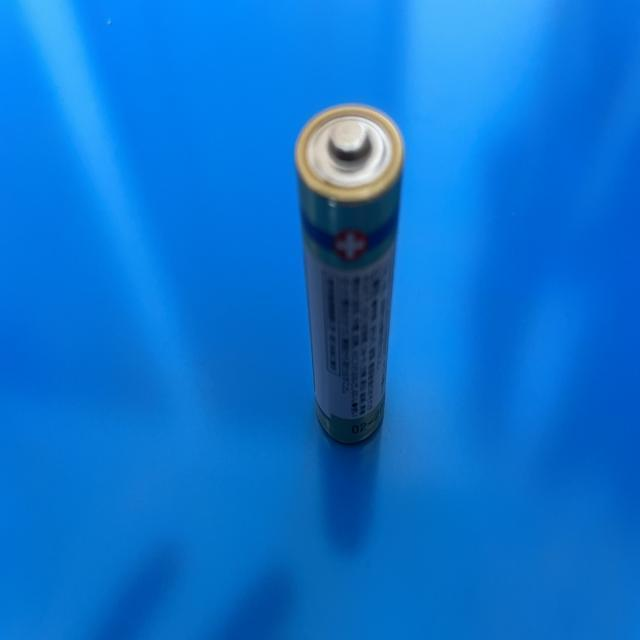AAA: (290, 104, 406, 446)
